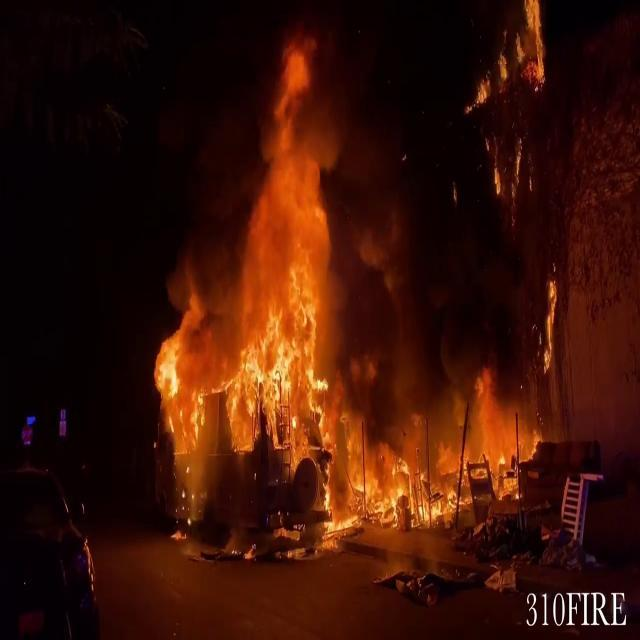Fire: (149, 0, 382, 531), (326, 346, 550, 544), (485, 0, 546, 100), (536, 273, 560, 376)
